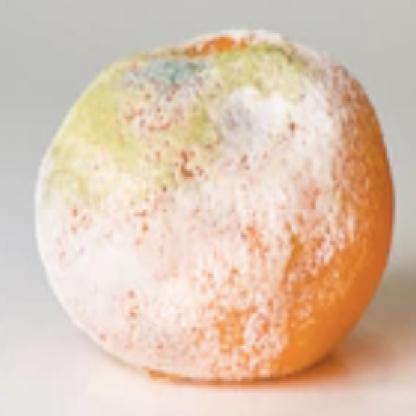rotten: (31, 35, 393, 384)
